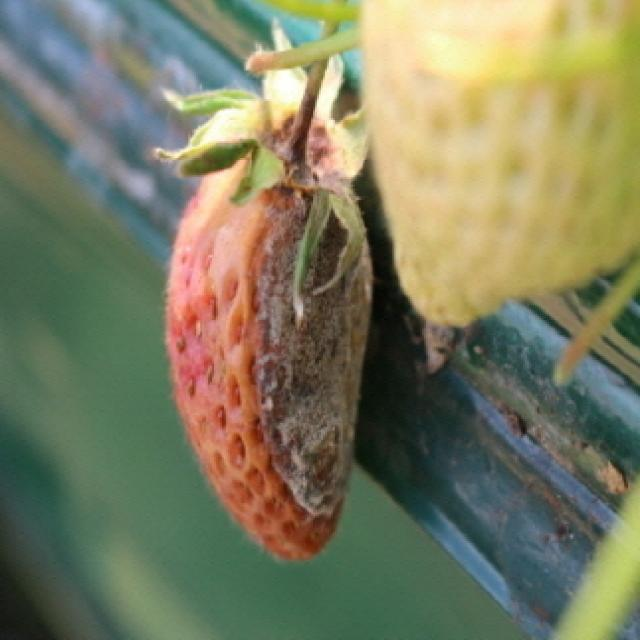Gray Mold: (162, 97, 375, 564)
